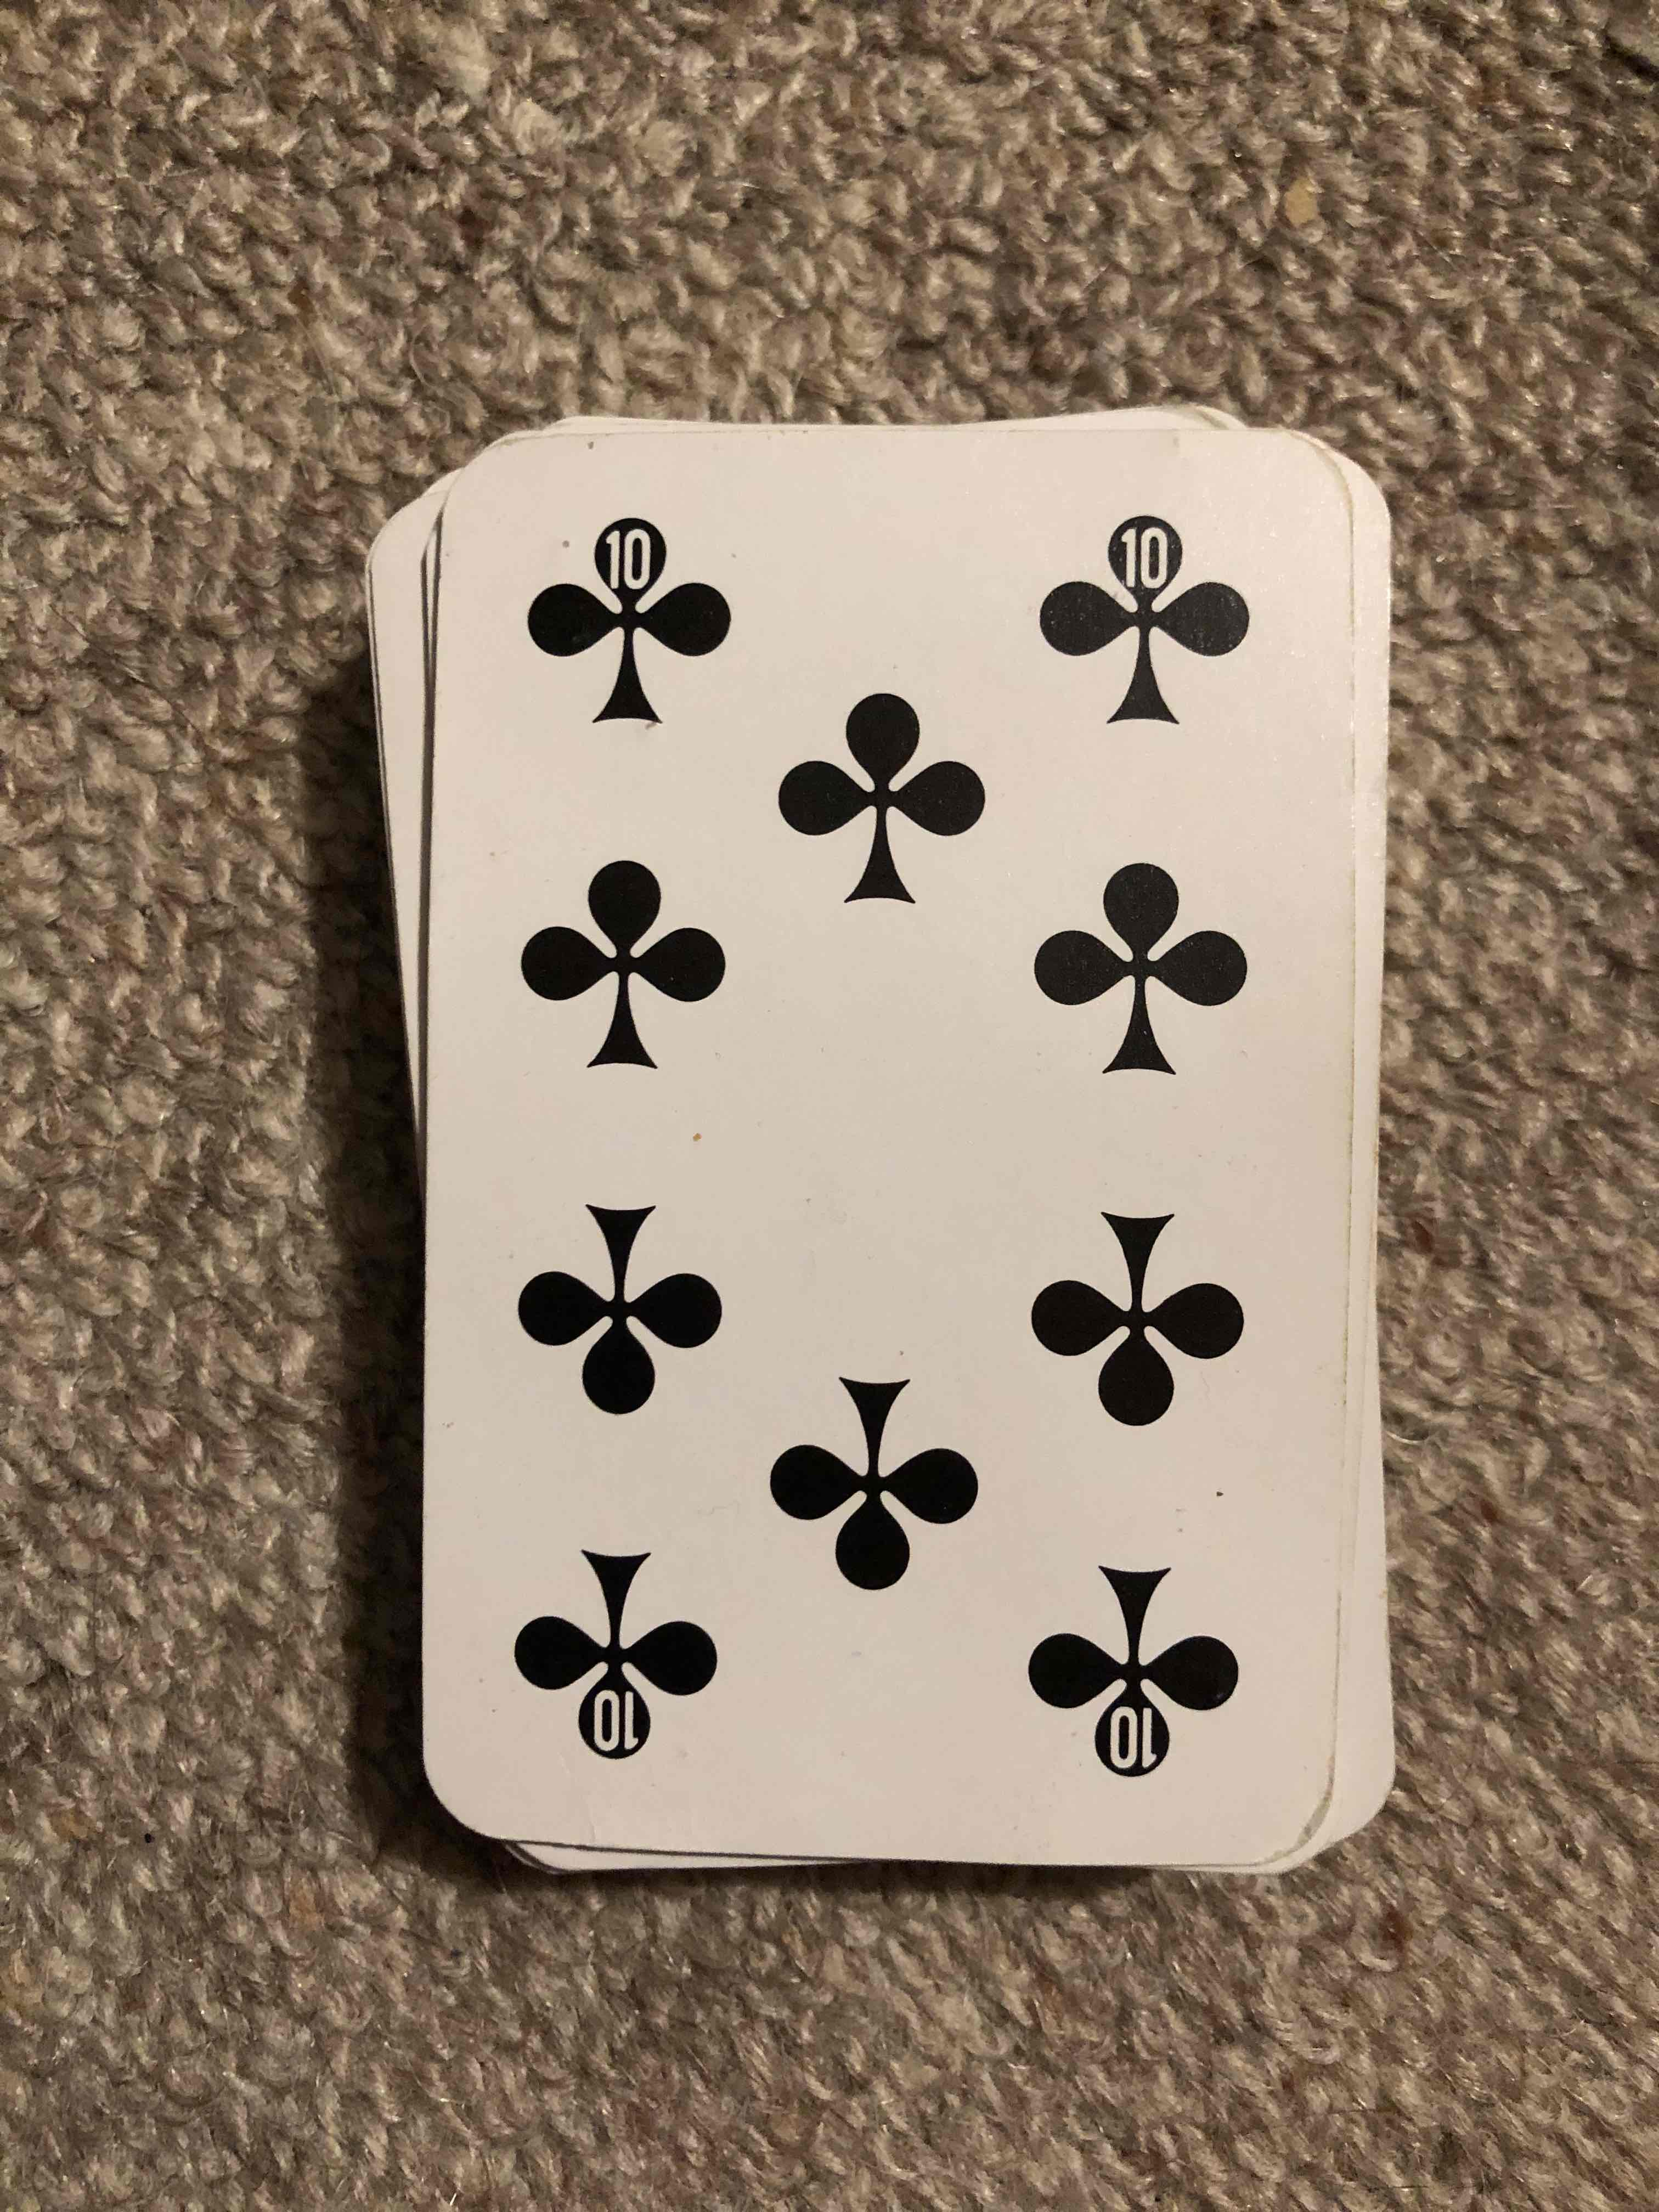clubs10: (411, 441, 1351, 1848)
